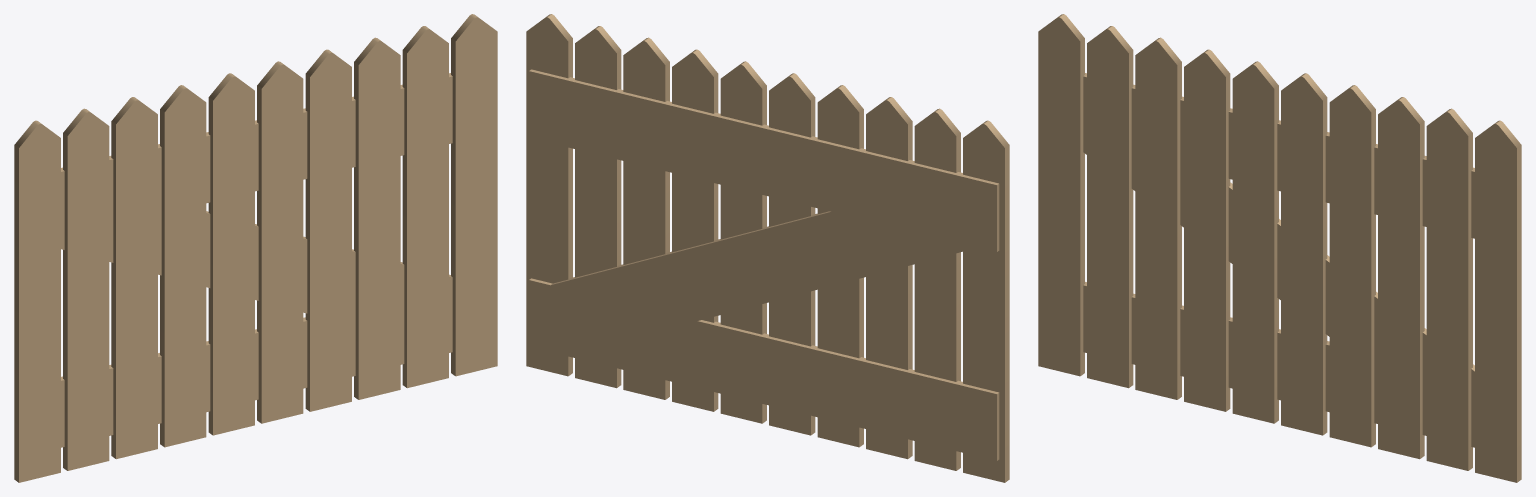
File: FENCE_ATTACHED_RAW.fbx
The picture shows the model from 3 angles, left to right: view 1: azimuth 30°, elevation 25°; view 2: azimuth 150°, elevation 25°; view 3: azimuth 330°, elevation 25°; orthographic projection.
Parts seen in each view (by area): view 1: FENCE; view 2: FENCE; view 3: FENCE.
Part boxes in pixels (bbox=[...]): FENCE: bbox=[14, 14, 497, 482]; FENCE: bbox=[526, 14, 1009, 482]; FENCE: bbox=[1038, 14, 1521, 482].
Bounding box in the file's own units: 75.91 × 53.66 × 1.89.
